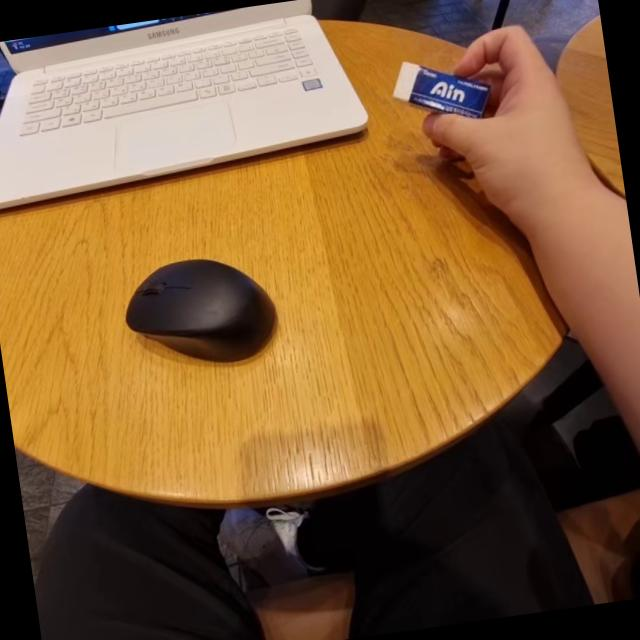eraser: (385, 48, 507, 129)
grab_eraser: (368, 13, 605, 252)
mouse: (112, 236, 292, 380)
